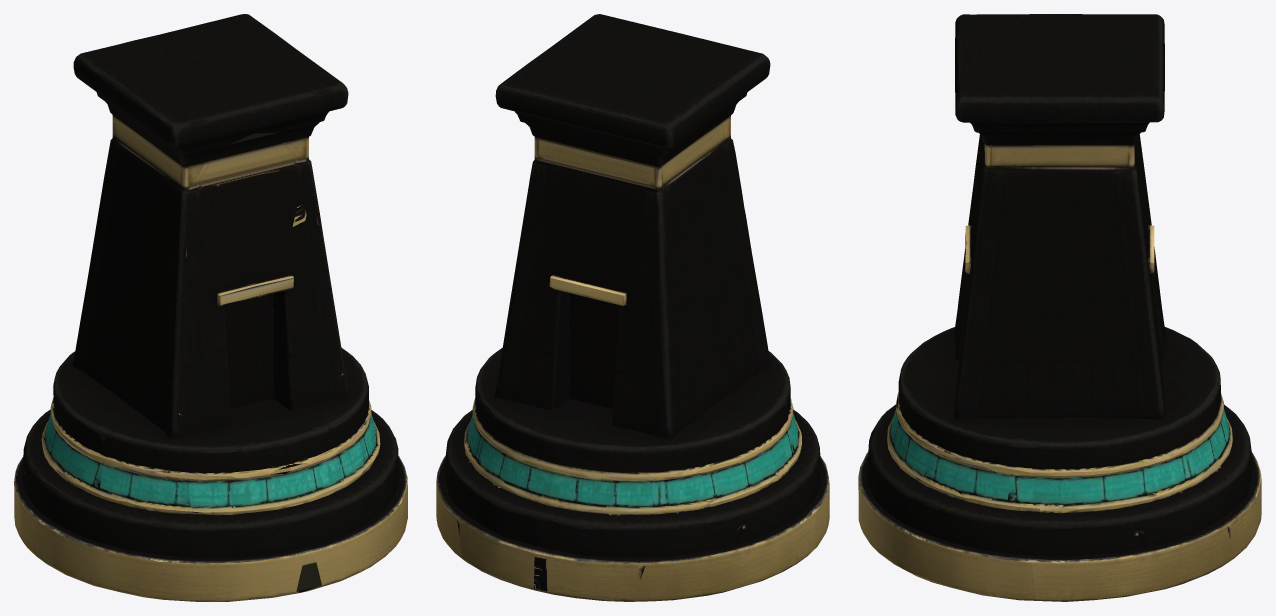
3 renders of one model, left to right at view 1: azimuth 30°, elevation 25°; view 2: azimuth 150°, elevation 25°; view 3: azimuth 270°, elevation 25°, orthographic. The views are drawn at different scales.
Visible parts, largest first — view 1: world; view 2: world; view 3: world.
Boxes of the visible parts, left/top/right/bottom form: world: left=14, top=14, right=407, bottom=601; world: left=436, top=14, right=829, bottom=601; world: left=858, top=14, right=1261, bottom=601.
Size of the model in its own units: 0.7905 by 1 by 0.7905.
1 material, 1 textured.
